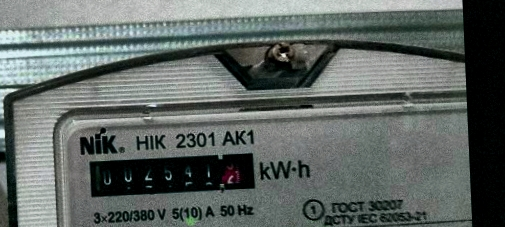0: (100, 164, 113, 186), (120, 162, 133, 183)
1: (201, 156, 213, 180)
2: (140, 160, 155, 182)
4: (181, 157, 193, 178)
5: (160, 159, 174, 182)
6: (224, 171, 235, 184)
screen: (76, 142, 267, 204)
